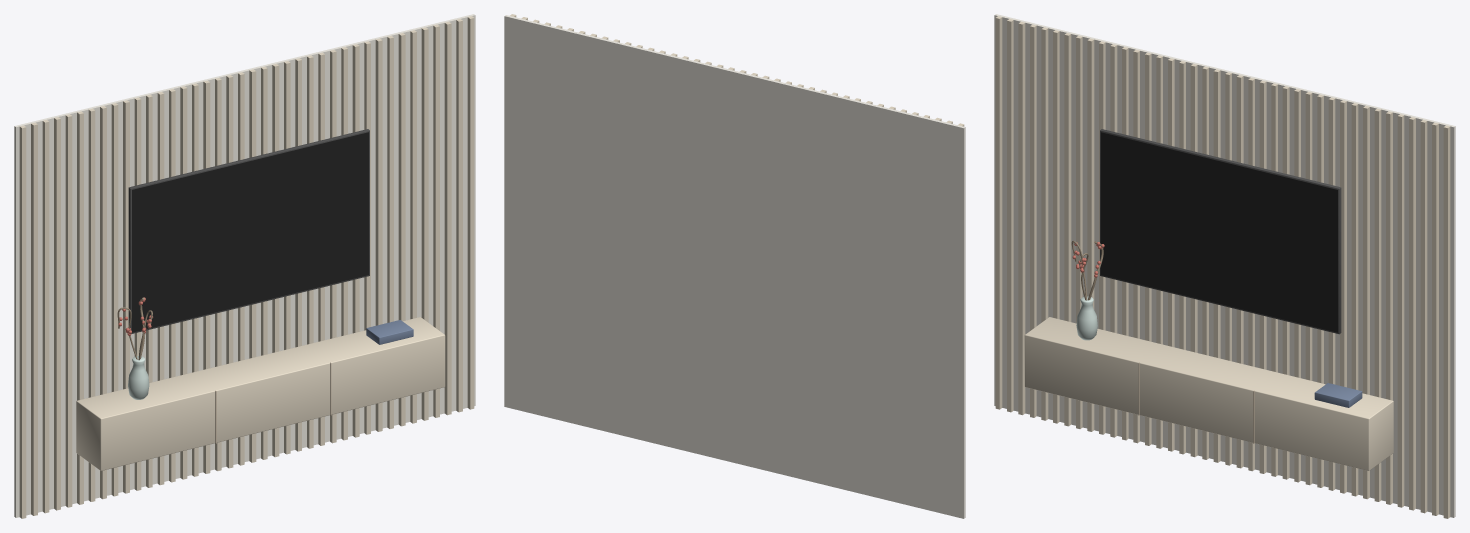
The model's file is sg_media_wall.glb.
The picture shows the model from 3 angles, left to right: view 1: azimuth 30°, elevation 25°; view 2: azimuth 150°, elevation 25°; view 3: azimuth 330°, elevation 25°; orthographic projection.
Visible parts, largest first — view 1: lattice, backing, screen, cabinet, bezel, books, vase; view 2: backing, lattice; view 3: lattice, backing, screen, cabinet, bezel, books, vase.
Boxes of the visible parts, box(x1,y1,x2,y2) form: lattice: box(19, 16, 474, 518); backing: box(14, 14, 475, 517); screen: box(132, 132, 368, 332); cabinet: box(76, 317, 445, 470); bezel: box(128, 129, 369, 333); books: box(366, 320, 413, 344); vase: box(128, 356, 149, 399); backing: box(504, 15, 965, 518); lattice: box(510, 14, 964, 126); lattice: box(995, 16, 1450, 518); backing: box(994, 14, 1455, 517); screen: box(1101, 132, 1337, 332); cabinet: box(1024, 317, 1393, 470); bezel: box(1100, 129, 1341, 334); books: box(1314, 383, 1362, 407); vase: box(1076, 296, 1097, 340).
Bounding box in the file's own units: 3.2 × 2.6 × 0.357.
